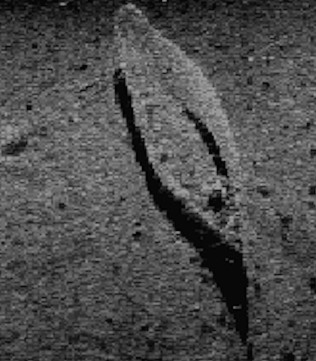ship: (111, 4, 256, 245)
